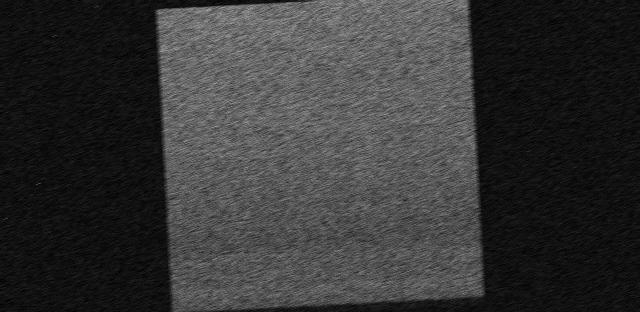silk_spot: (222, 0, 416, 82)
